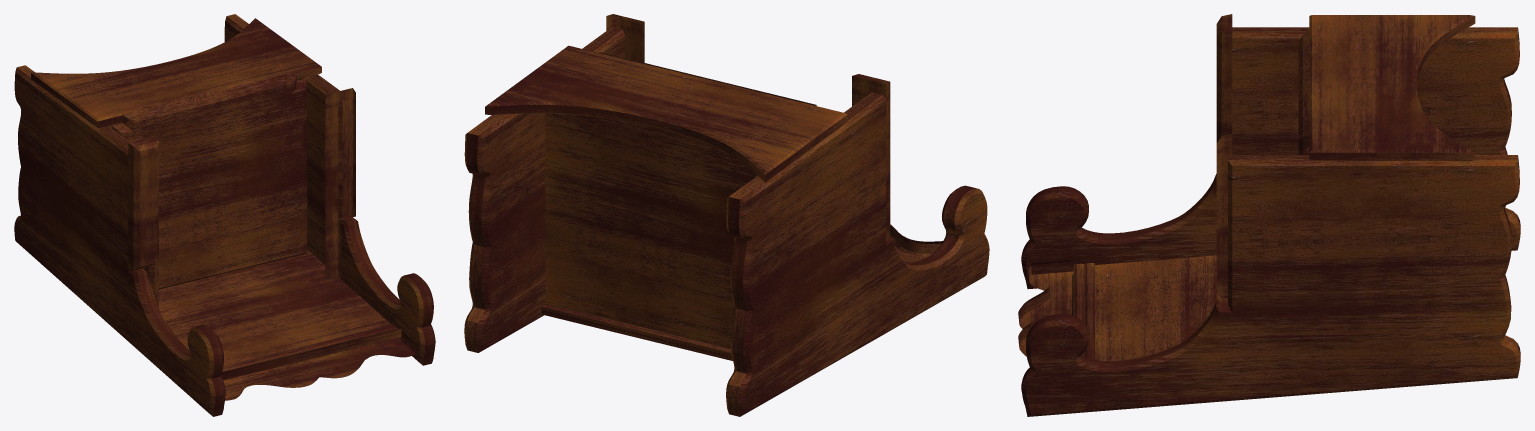
File: arm011.obj
3 views of the same model, side by side, from view 1: azimuth 30°, elevation 25°; view 2: azimuth 150°, elevation 25°; view 3: azimuth 270°, elevation 25° (orthographic). The views are drawn at different scales.
Visible parts, largest first — view 1: seat, bok04, back, planka, bok03, backtop01, ruchka, ruchka01, v02, v1; view 2: bok04, seat01, planka, bok03, backbottom, ruchka, ruchka01, backtop01; view 3: bok03, bok04, planka, back, backtop01, ruchka01, ruchka, seat, v1, v02.
Boxes of the visible parts, box(x1,y1,x2,y2) form: seat: box(112, 71, 307, 289); bok04: box(14, 65, 225, 416); back: box(159, 250, 391, 365); planka: box(31, 18, 321, 127); bok03: box(224, 14, 435, 365); backtop01: box(221, 328, 418, 400); ruchka: box(128, 136, 158, 307); ruchka01: box(325, 88, 355, 281); v02: box(221, 328, 401, 380); v1: box(222, 324, 396, 370); bok04: box(726, 92, 989, 416); seat01: box(545, 113, 757, 348); planka: box(485, 45, 847, 182); bok03: box(464, 27, 624, 352); backbottom: box(541, 303, 732, 360); ruchka: box(852, 74, 890, 241); ruchka01: box(606, 14, 644, 62); backtop01: box(890, 224, 942, 257); bok03: box(1021, 155, 1520, 416); bok04: box(1021, 27, 1520, 289); planka: box(1309, 15, 1475, 160); back: box(1095, 255, 1216, 360); backtop01: box(1018, 260, 1073, 356); ruchka01: box(1216, 134, 1232, 308); ruchka: box(1216, 14, 1232, 143); seat: box(1298, 29, 1309, 154); v1: box(1084, 263, 1094, 359); v02: box(1073, 263, 1084, 356).
Bounding box in the file's own units: 626 × 573 × 973.
Materials: 1 (1 with a texture image).
